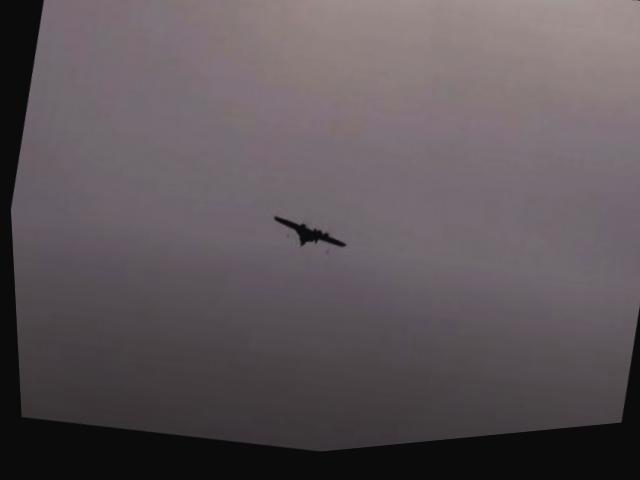iha: (263, 210, 348, 268)
